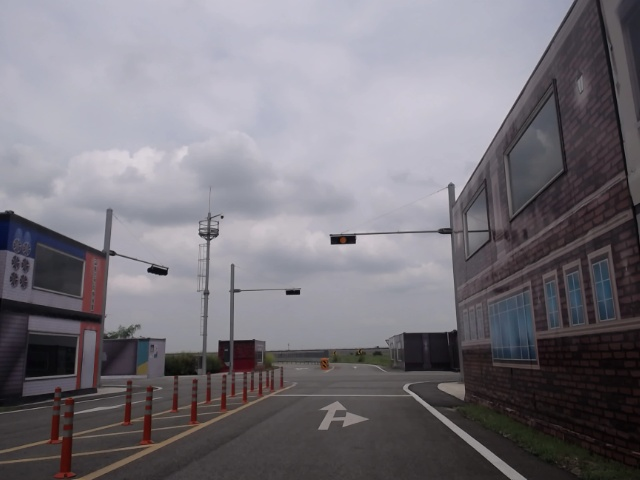orange_3: (331, 235, 356, 245)
